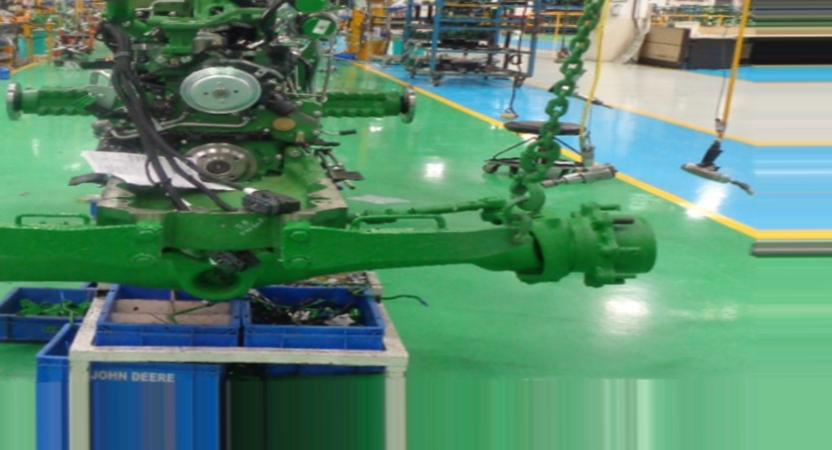engine: (0, 0, 659, 295)
